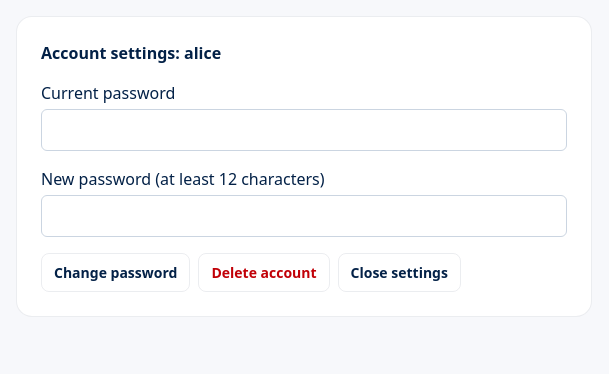
Test case: changes the password and clears sensitive form fields
Type "a-strong-password" into the password field labelled "Current password". click: point(304, 130)
box: [41,109,567,151]
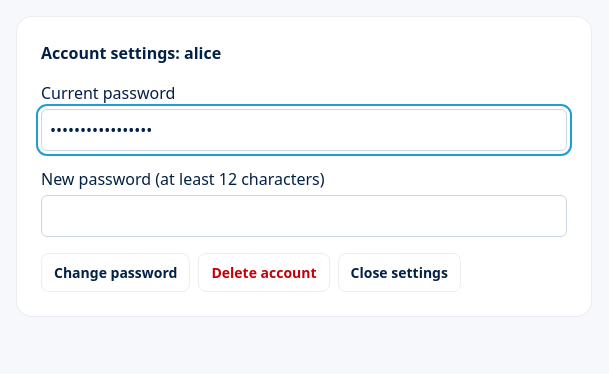
Type "replacement-password" into the password field labelled "New password (at least 12 characters)". click: point(304, 216)
box: [41,195,567,237]
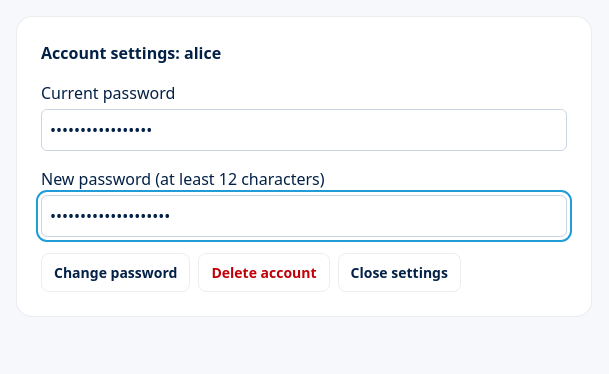
Click the button "Change password". click: point(116, 272)
box: [41,253,190,292]
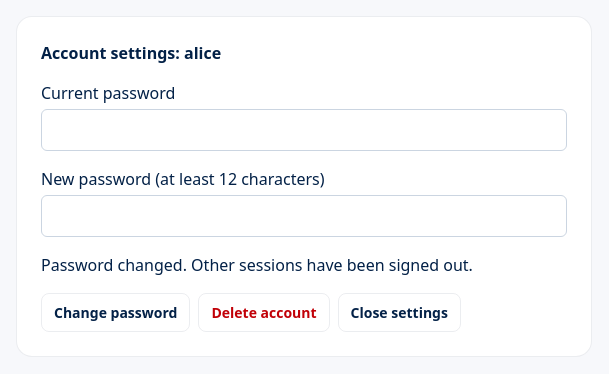
Result: the message shows "Other sessions have been signed out" at [41,254,473,276]
Result: the password field labelled "Current password" is empty at [41,109,567,151]
Result: the password field labelled "New password (at least 12 characters)" is empty at [41,195,567,237]
